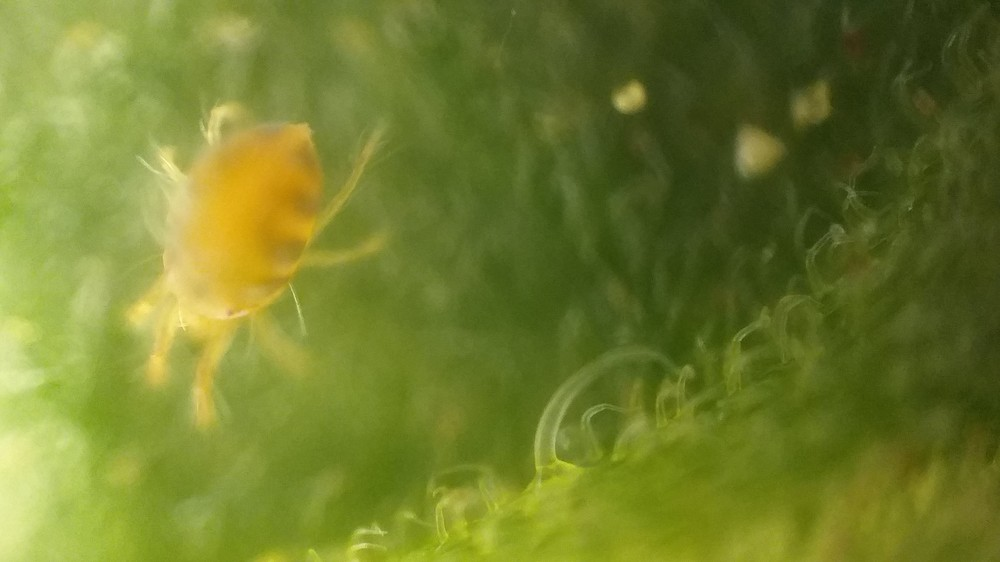Aracnido Rojo: (65, 82, 414, 437)
